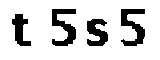5: (117, 3, 150, 51), (47, 6, 80, 50)
s: (84, 17, 110, 48)
t: (9, 10, 32, 50)
